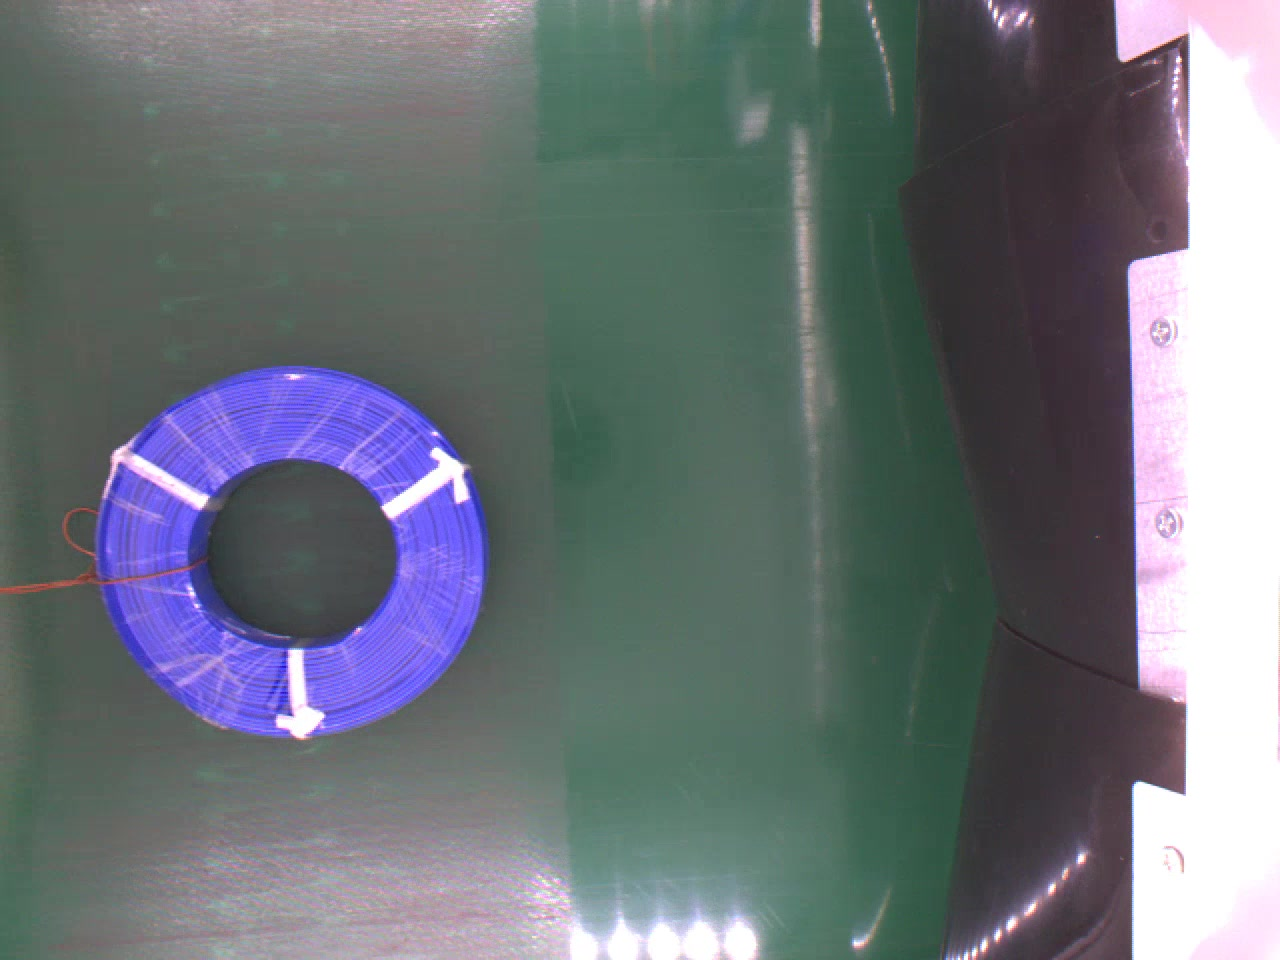blue: (93, 361, 488, 743)
